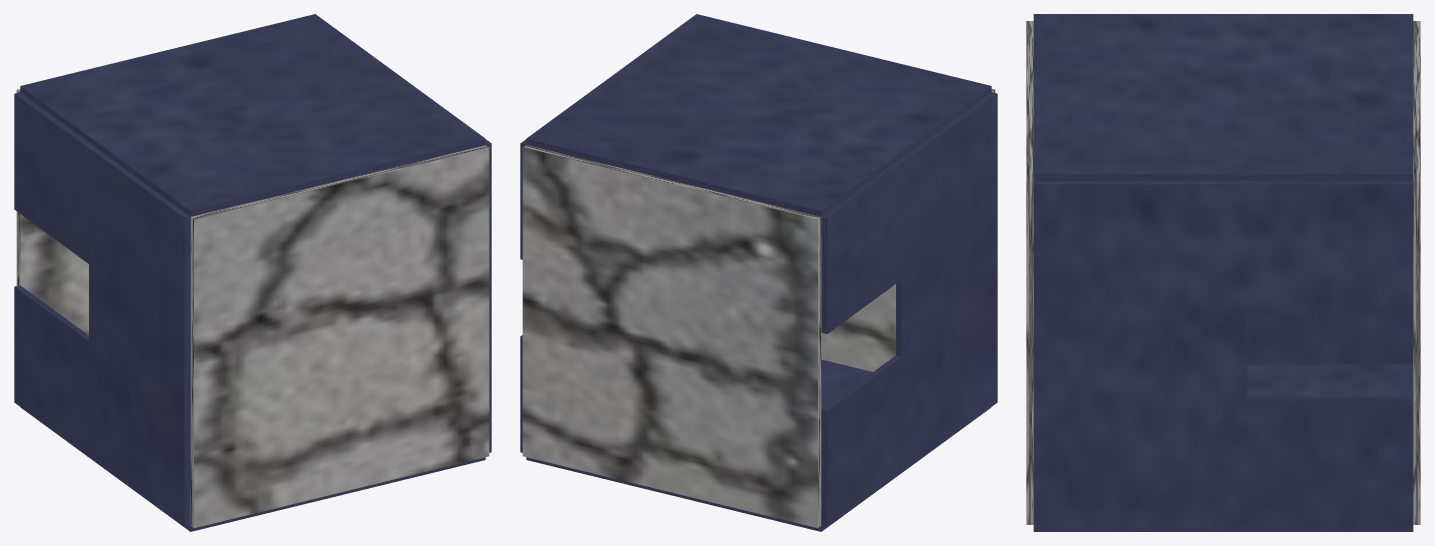
Rendered from procedural-mimitasizing5-infdgnslr-v3.glb.
3 renders of one model, left to right at view 1: azimuth 30°, elevation 25°; view 2: azimuth 150°, elevation 25°; view 3: azimuth 270°, elevation 25°, orthographic. The views are drawn at different scales.
Parts seen in each view (by area): view 1: floor.001, wallPositiveY, wallNegativeX, floor, wallNegativeY, wallNegativeX.001; view 2: floor, wallPositiveY, wallNegativeX, floor.001, wallNegativeY, wallNegativeX.001; view 3: wallNegativeX.001, wallPositiveY, wallNegativeX, wallNegativeY, floor, floor.001.
Part boxes in pixels (bbox=[...]): floor.001: bbox=[190, 145, 489, 528]; wallPositiveY: bbox=[20, 14, 485, 216]; wallNegativeX: bbox=[14, 92, 190, 526]; floor: bbox=[16, 89, 88, 335]; wallNegativeY: bbox=[20, 407, 485, 531]; wallNegativeX.001: bbox=[485, 139, 491, 452]; floor: bbox=[522, 145, 821, 528]; wallPositiveY: bbox=[526, 14, 991, 216]; wallNegativeX: bbox=[821, 92, 997, 526]; floor.001: bbox=[821, 89, 995, 371]; wallNegativeY: bbox=[526, 359, 991, 531]; wallNegativeX.001: bbox=[520, 139, 526, 452]; wallNegativeX.001: bbox=[1033, 181, 1413, 528]; wallPositiveY: bbox=[1033, 14, 1413, 181]; wallNegativeX: bbox=[1247, 313, 1413, 364]; wallNegativeY: bbox=[1033, 364, 1413, 531]; floor: bbox=[1413, 21, 1420, 524]; floor.001: bbox=[1026, 21, 1033, 524].
Size of the model in its own units: 104 by 104 by 104.
Materials: 4 (4 with a texture image).
